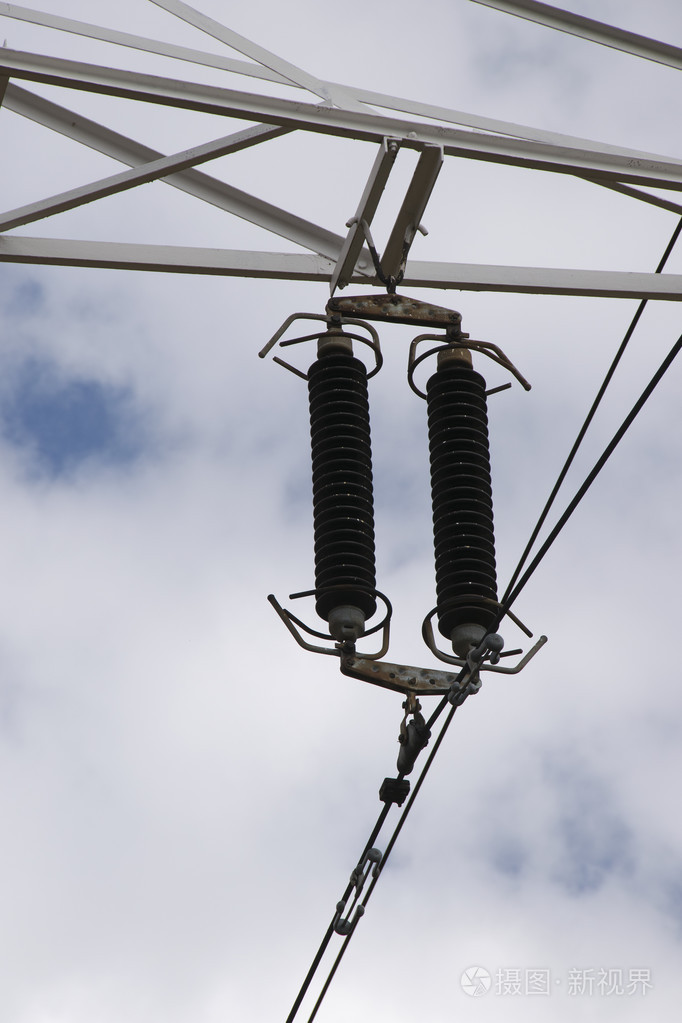insulator: (421, 367, 503, 642), (301, 359, 378, 618)
